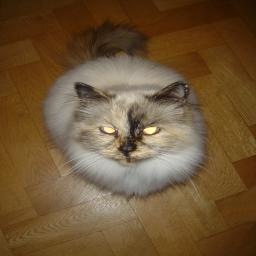catnose: (115, 142, 140, 156)
